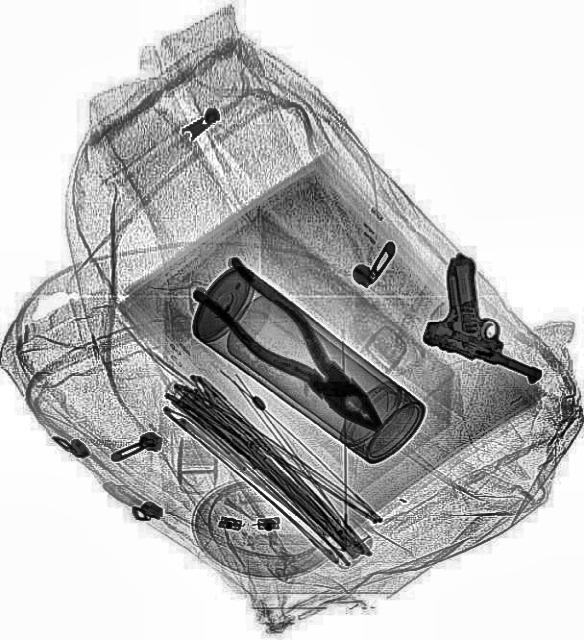Gun: (416, 248, 570, 386)
Pliers: (187, 248, 403, 452)
